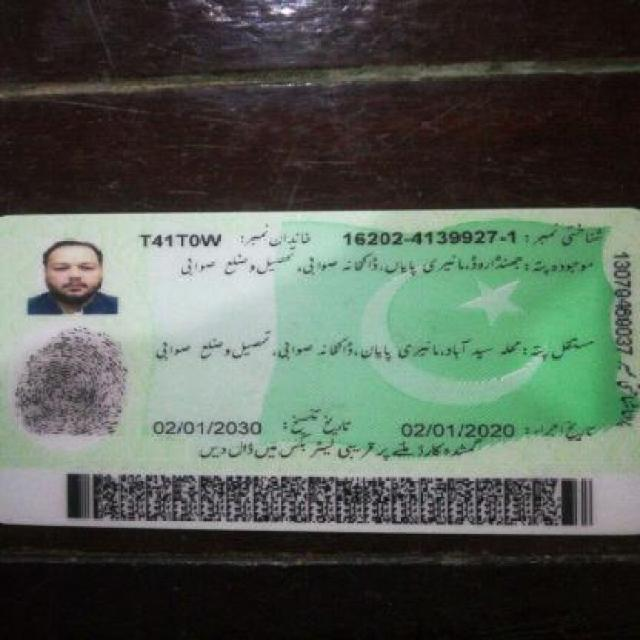Back: (3, 206, 629, 534)
